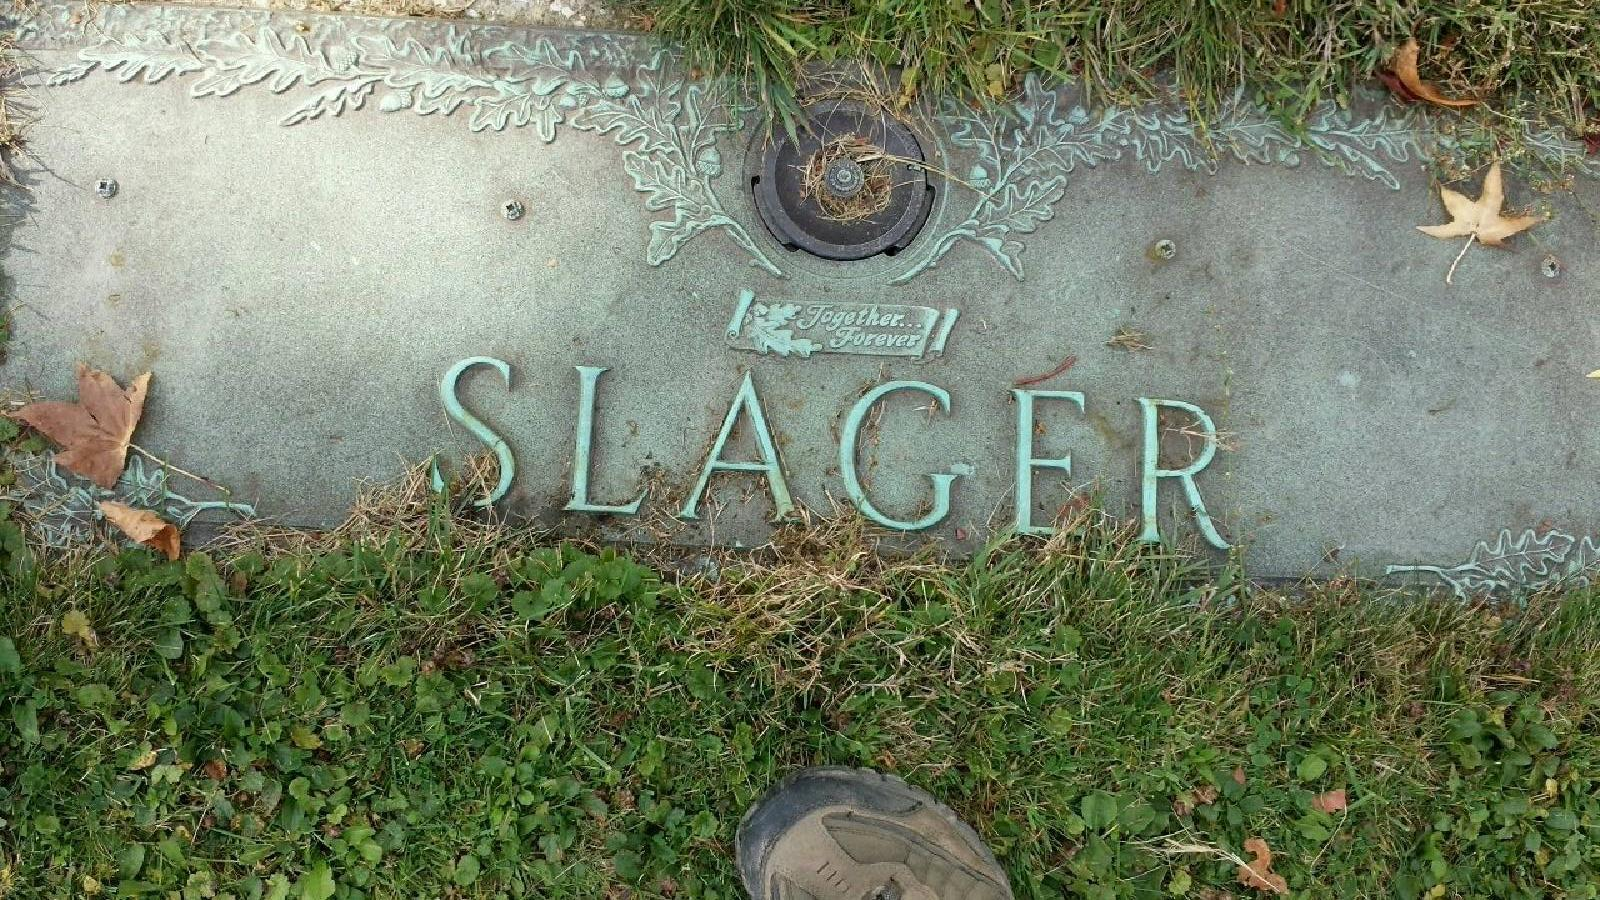flat: (1, 0, 1600, 618)
